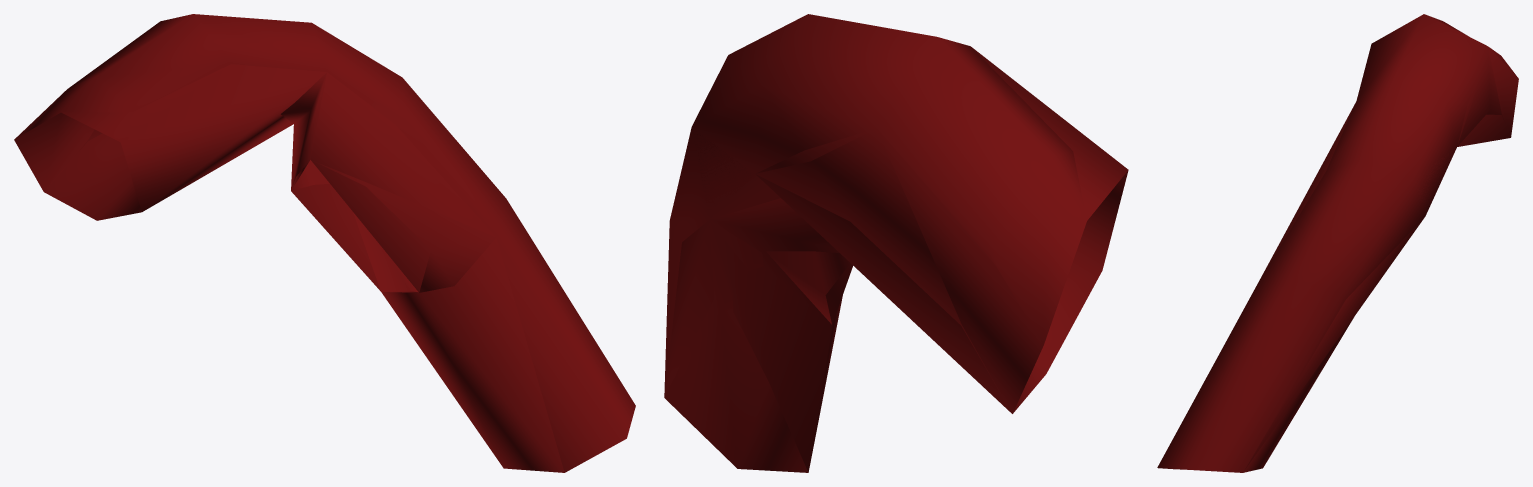
Rendered from L arteria subclavia.fbx.
The picture shows the model from 3 angles, left to right: view 1: azimuth 30°, elevation 25°; view 2: azimuth 150°, elevation 25°; view 3: azimuth 270°, elevation 25°; orthographic projection. The views are drawn at different scales.
Parts seen in each view (by area): view 1: L arteria subclavia, L arteria subclavia low; view 2: L arteria subclavia, L arteria subclavia low; view 3: L arteria subclavia, L arteria subclavia low.
Boxes of the visible parts, bbox=[...] form: L arteria subclavia: bbox=[14, 14, 635, 472]; L arteria subclavia low: bbox=[49, 64, 564, 472]; L arteria subclavia: bbox=[664, 14, 1128, 472]; L arteria subclavia low: bbox=[664, 47, 1128, 472]; L arteria subclavia: bbox=[1157, 14, 1517, 472]; L arteria subclavia low: bbox=[1173, 46, 1518, 470].
Bounding box in the file's own units: 1.63 × 1.51 × 1.35.
